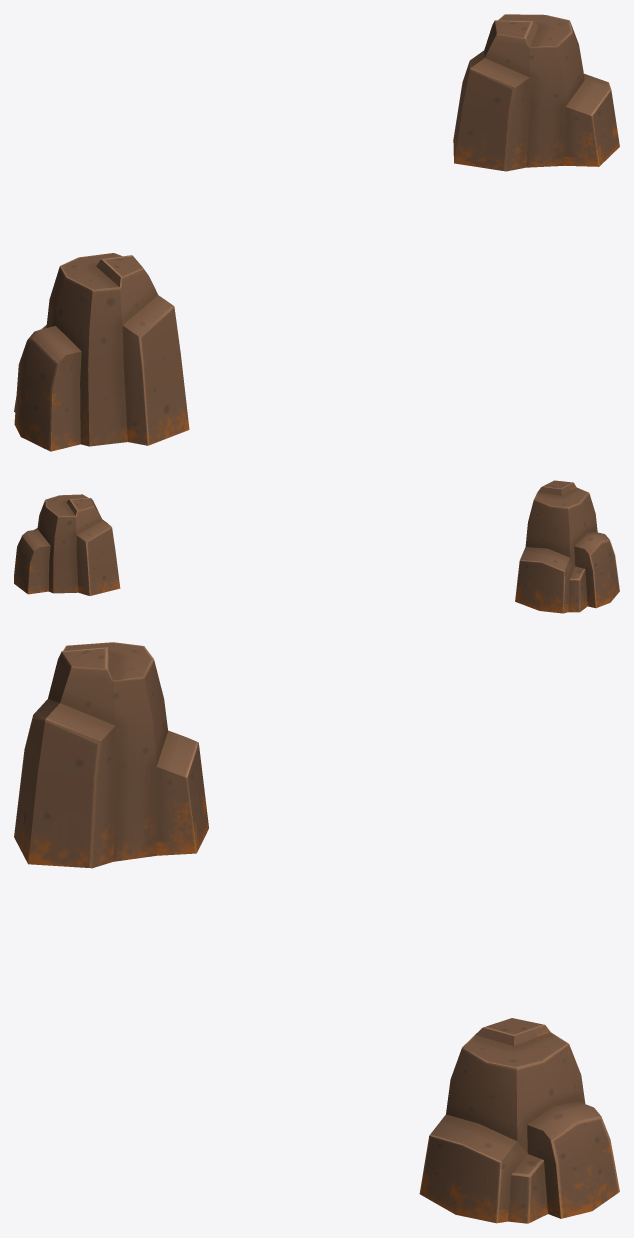
Rendered from Sliding_Scenery_B.fbx.
The picture shows the model from 3 angles, top to bottom: view 1: azimuth 30°, elevation 25°; view 2: azimuth 150°, elevation 25°; view 3: azimuth 270°, elevation 25°; orthographic projection. The views are drawn at different scales.
Parts seen in each view (by area): view 1: DesertRock, DesertRock 1; view 2: DesertRock, DesertRock 1; view 3: DesertRock, DesertRock 1.
Part boxes in pixels (x1=…): DesertRock: x1=14, y1=253, x2=189, y2=451; DesertRock 1: x1=453, y1=14, x2=619, y2=171; DesertRock: x1=515, y1=480, x2=619, y2=613; DesertRock 1: x1=14, y1=494, x2=120, y2=595; DesertRock: x1=14, y1=642, x2=208, y2=868; DesertRock 1: x1=419, y1=1018, x2=619, y2=1223.
Size of the model in its own units: 26.41 by 5.29 by 15.54.
